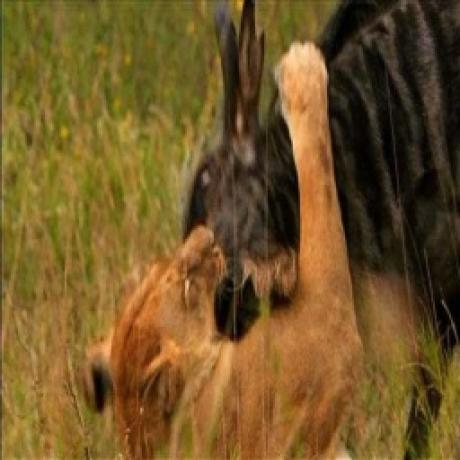Lion: (68, 37, 361, 460)
